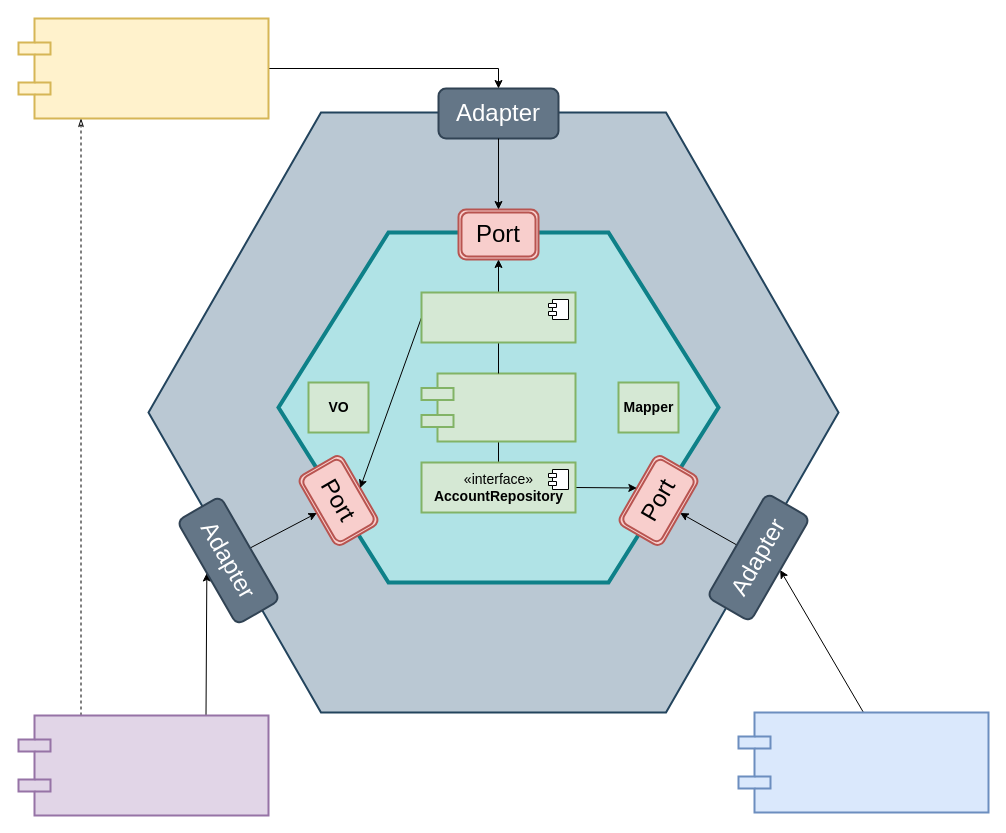
This 1006x833 diagram has some shape labels left out. The shapes that lost their labels are listed below. From the top down, each one's box as (x1, y1, x2, y2) in pixels, then its label:
(17, 17, 269, 119): Application Service AccountUseCase
(420, 291, 576, 343): «interface» AccountService
(420, 372, 576, 442): Domain Account
(17, 714, 269, 816): Presentation Controller AccountResource
(737, 711, 989, 813): Infrastructure Repository AccountRepositoryJpa
